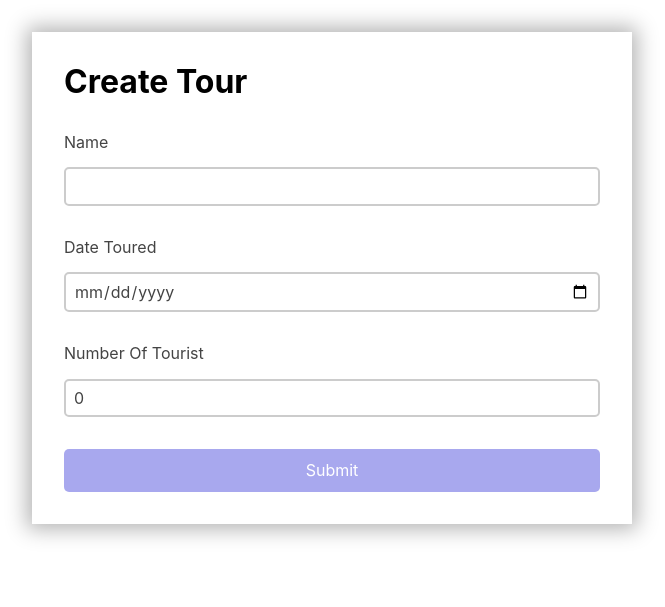
Test case: User submitting form › Should display error message when fetch returns back non 2xx status code
The image size is (665, 607).
Type "Ripley" into the field labelled "Name". click: (332,186)
box: x1=64 y1=167 x2=600 y2=206
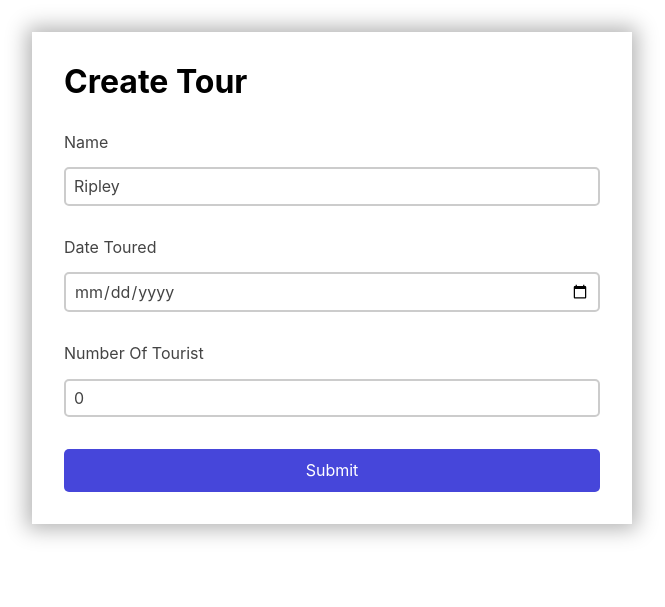
Type "2019-03-05" into the date field labelled "Date Toured". click: (332,292)
box: x1=64 y1=272 x2=600 y2=312
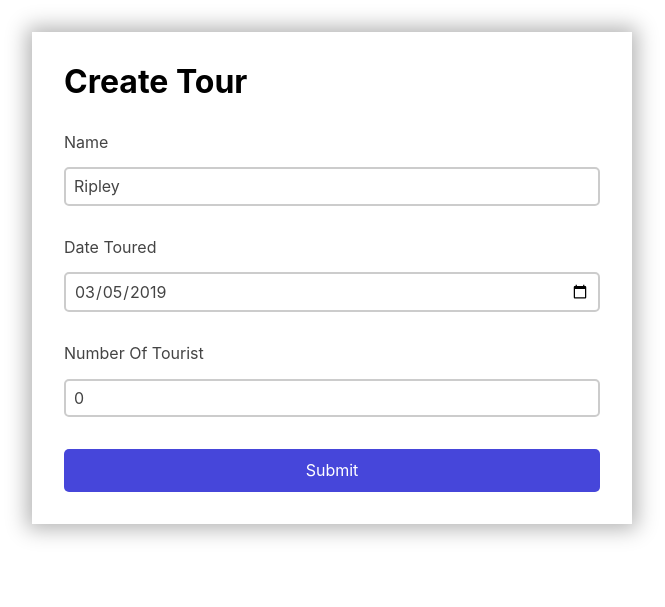
Replace the text in the number field labelled "Number of Tourist" with "20". click: (332,398)
box: x1=64 y1=379 x2=600 y2=417
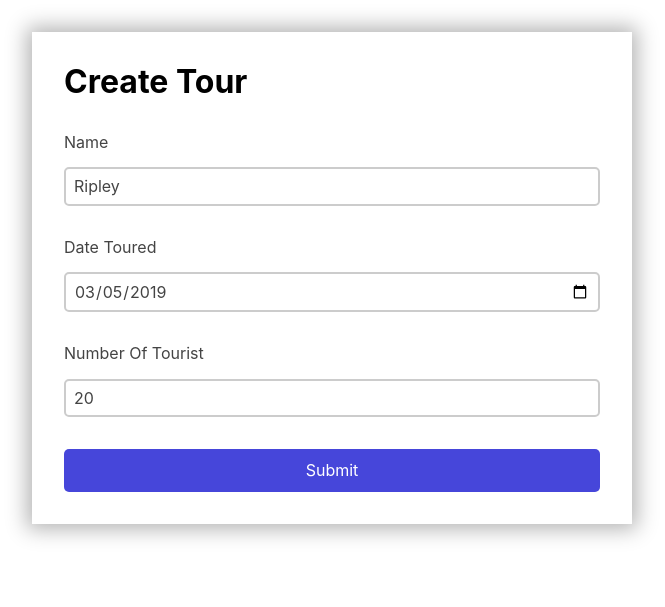
Submit the form from the button "Submit", box x1=64 y1=449 x2=600 y2=492
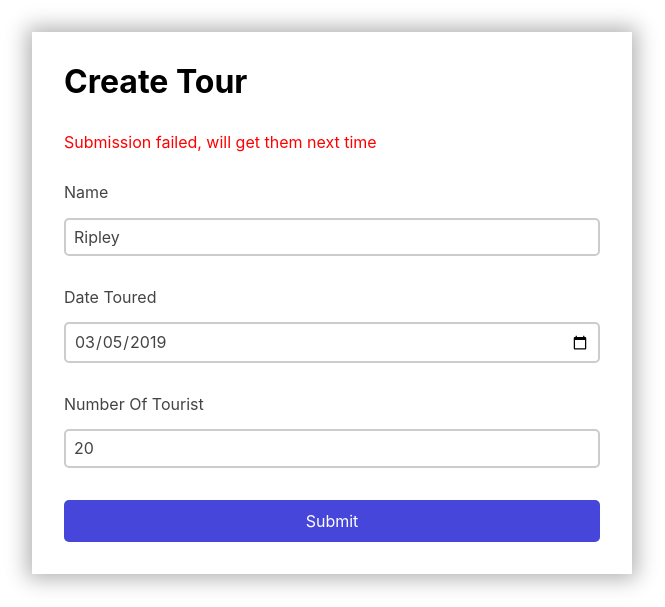
Expected: the text "Submission failed, will get them next time" is shown, x1=64 y1=132 x2=377 y2=152
